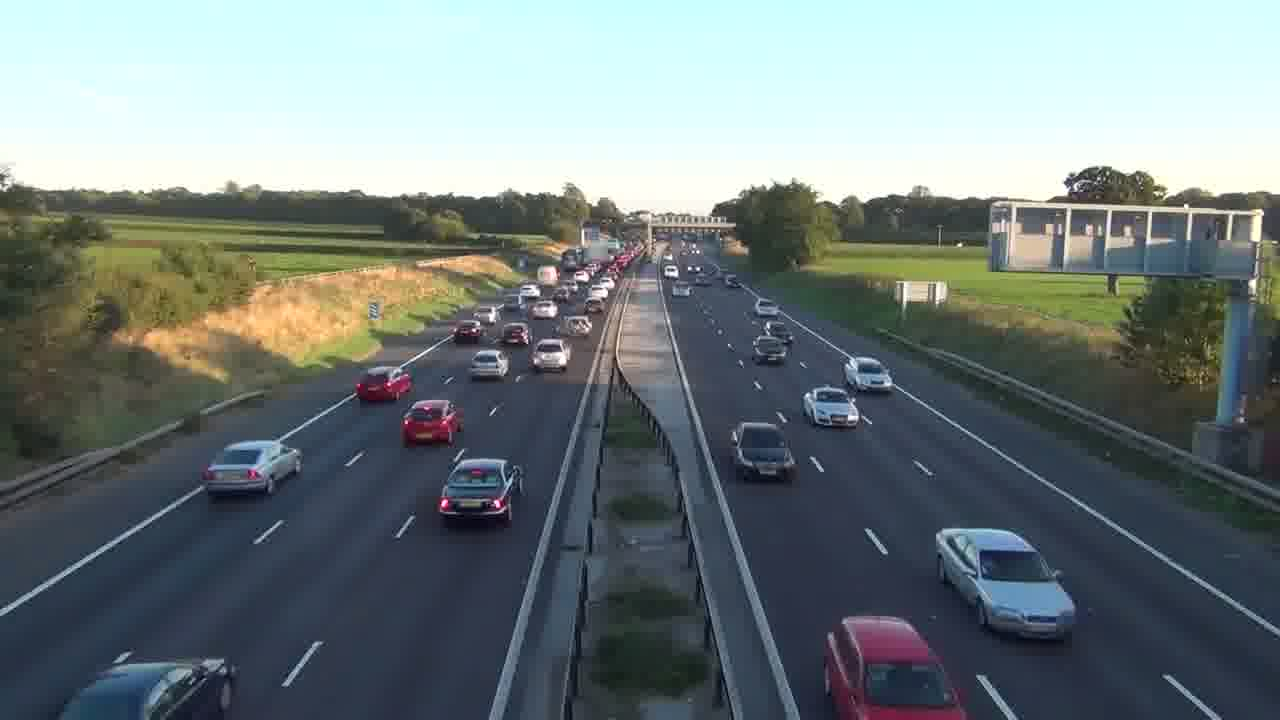car: (935, 526, 1078, 643), (822, 614, 970, 720), (201, 439, 303, 499), (436, 456, 520, 528), (730, 420, 799, 483), (401, 398, 463, 447), (802, 385, 867, 429), (354, 365, 412, 404), (842, 355, 894, 393), (530, 337, 570, 372), (470, 349, 511, 381), (751, 336, 789, 366)
